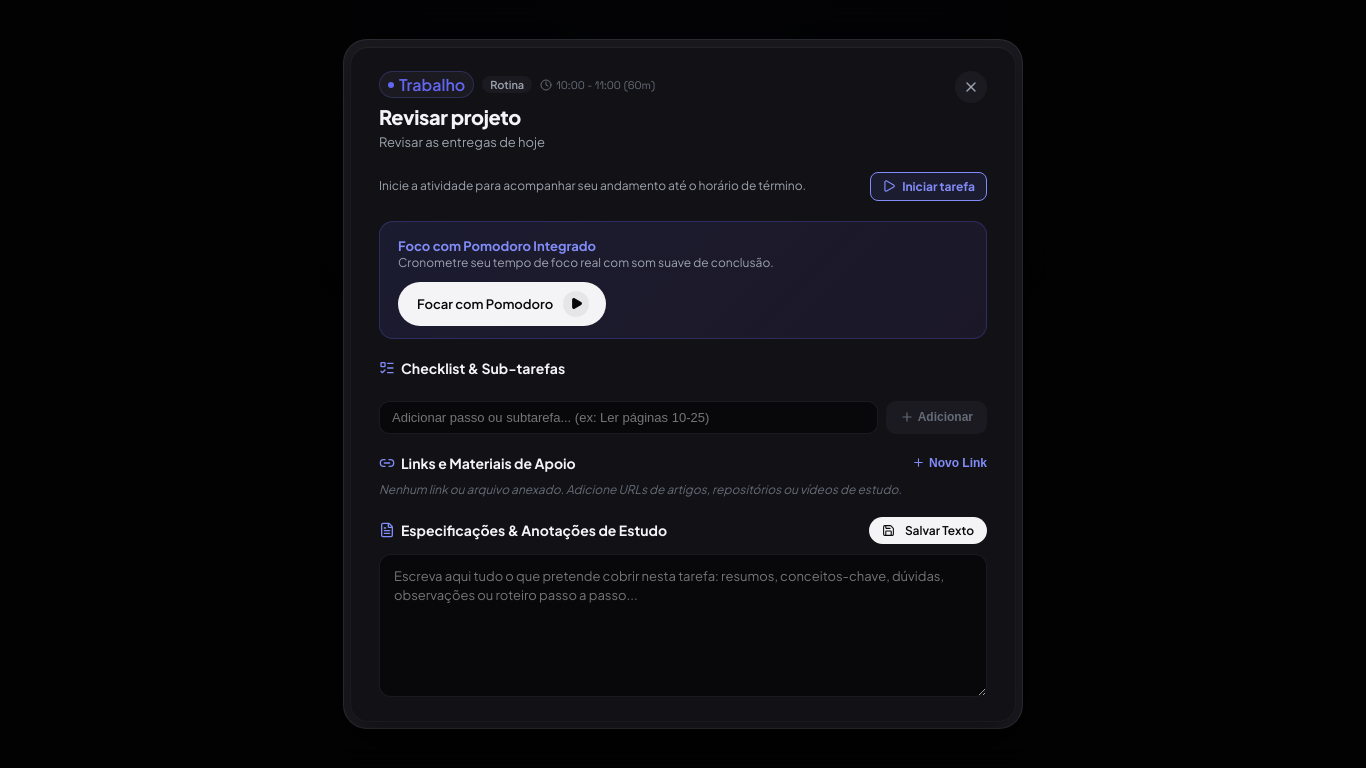
Test: Progresso da tarefa no details › inicia a tarefa, exibe seu andamento e mantém conclusão e Pomodoro independentes
Click the button "Iniciar tarefa".
click(929, 186)  # box x1=870 y1=172 x2=987 y2=201
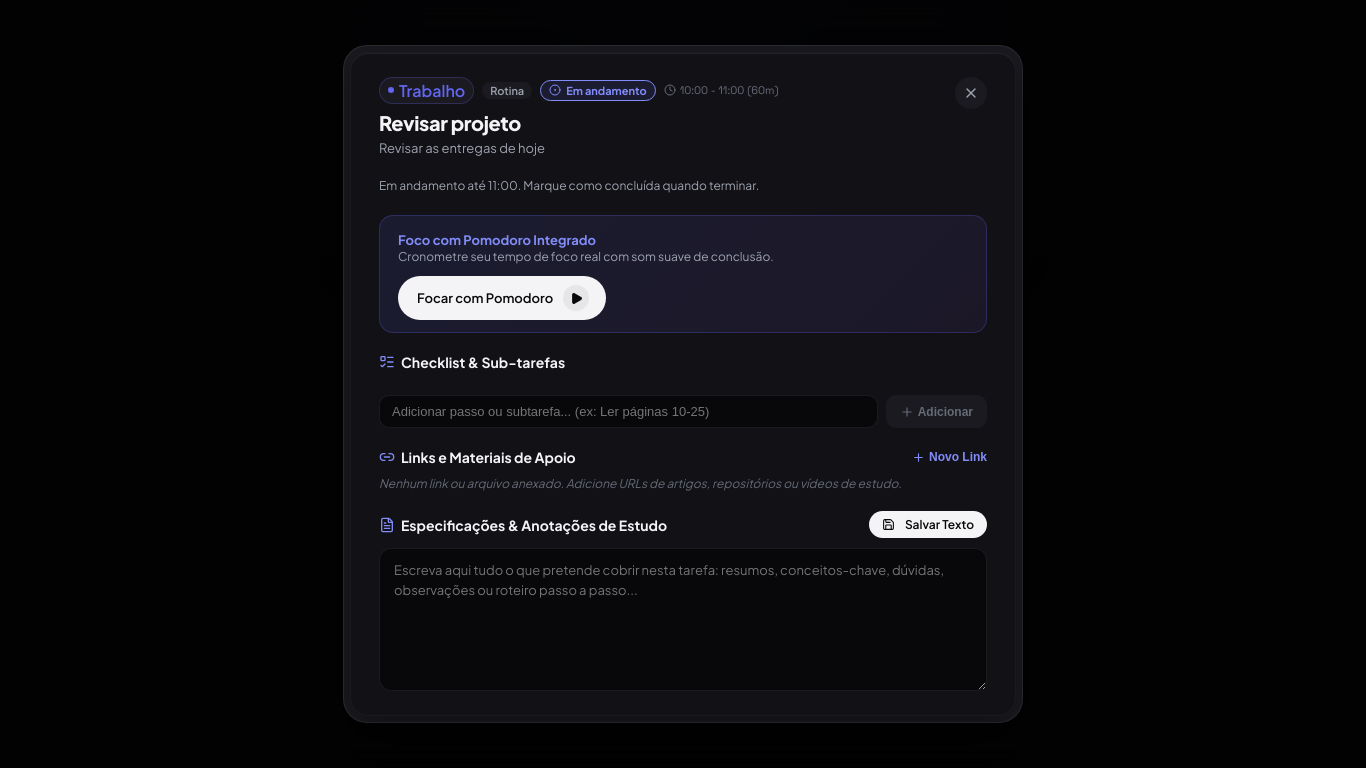
Expected: the button "Focar com Pomodoro" is shown, x1=398 y1=276 x2=606 y2=320
Result: the text "Em andamento" is shown at x1=540 y1=80 x2=656 y2=101
Result: the button "Iniciar tarefa" is gone
